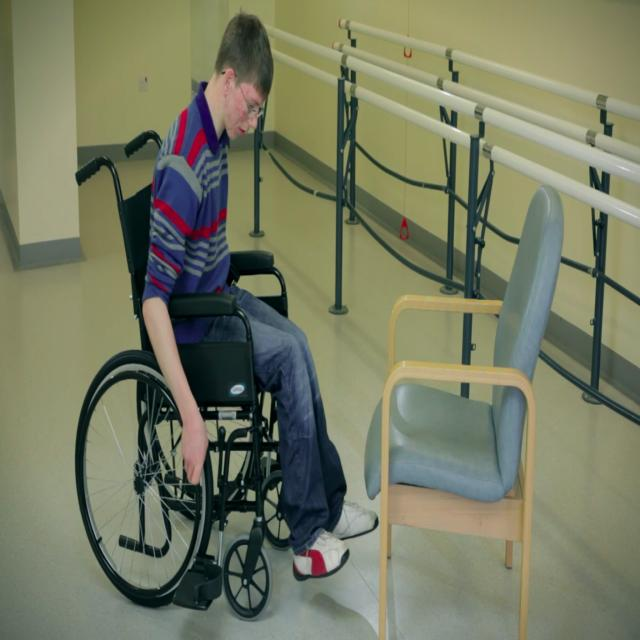wheelchairs: (75, 132, 313, 623)
